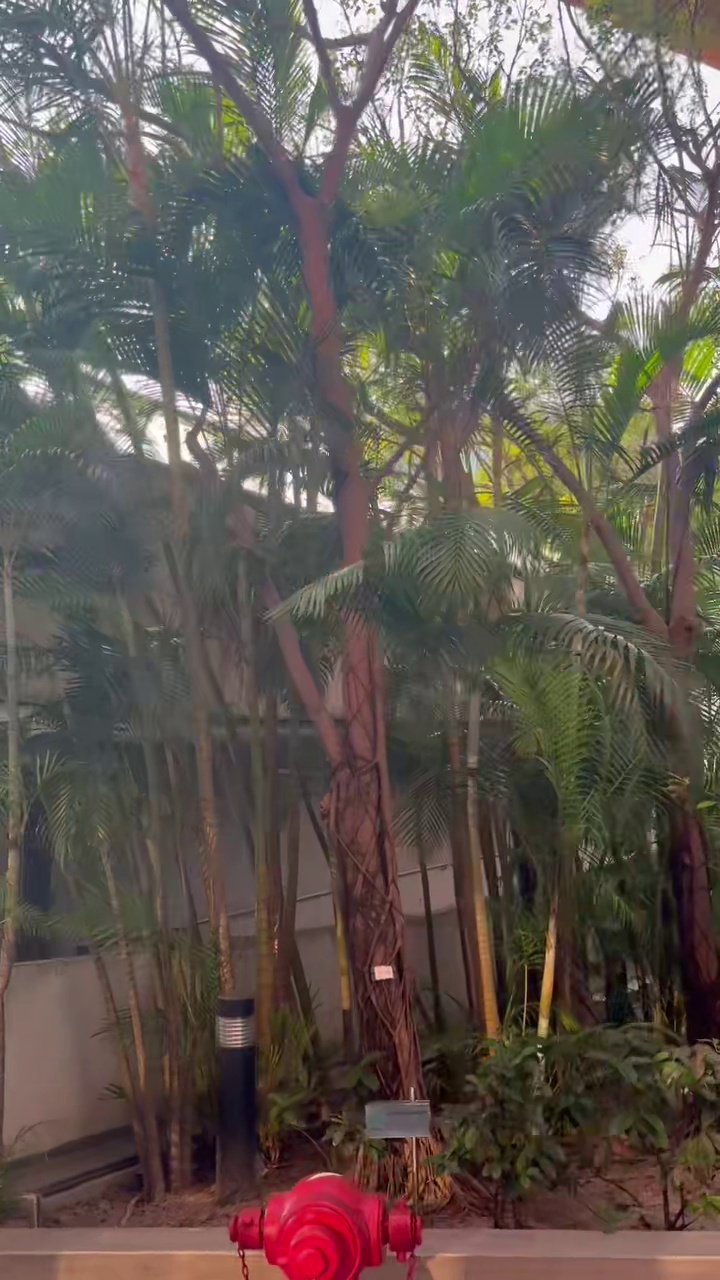Ficus benjamina: (167, 0, 423, 1096)
